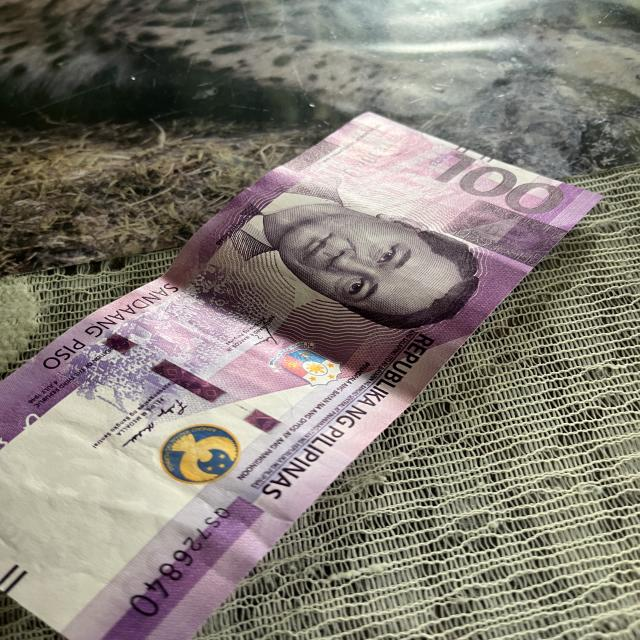concealed_value: (440, 198, 569, 268)
security_thread: (68, 315, 355, 473)
serial_number: (112, 501, 247, 629)
value: (423, 148, 577, 223)
